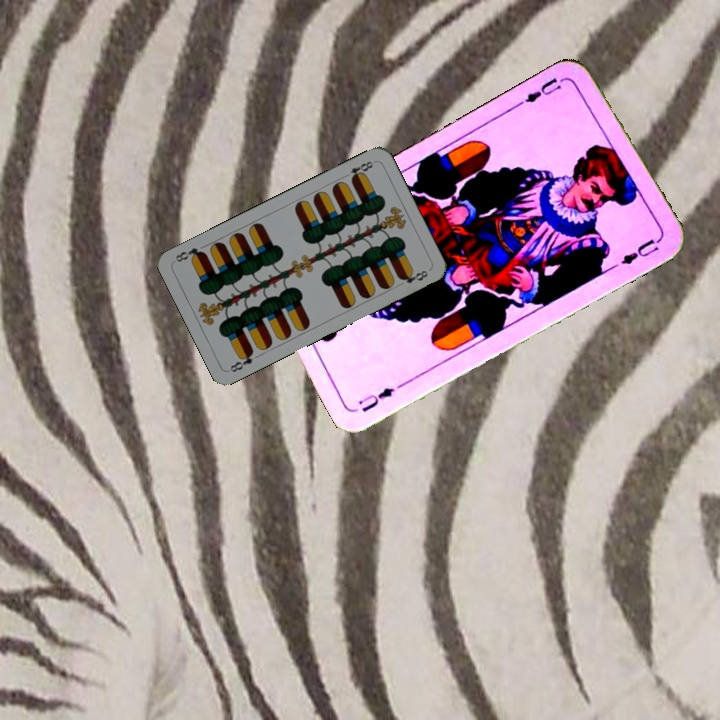E8: (339, 157, 377, 183), (226, 346, 256, 375)
EU: (514, 73, 568, 108), (355, 383, 397, 415)
